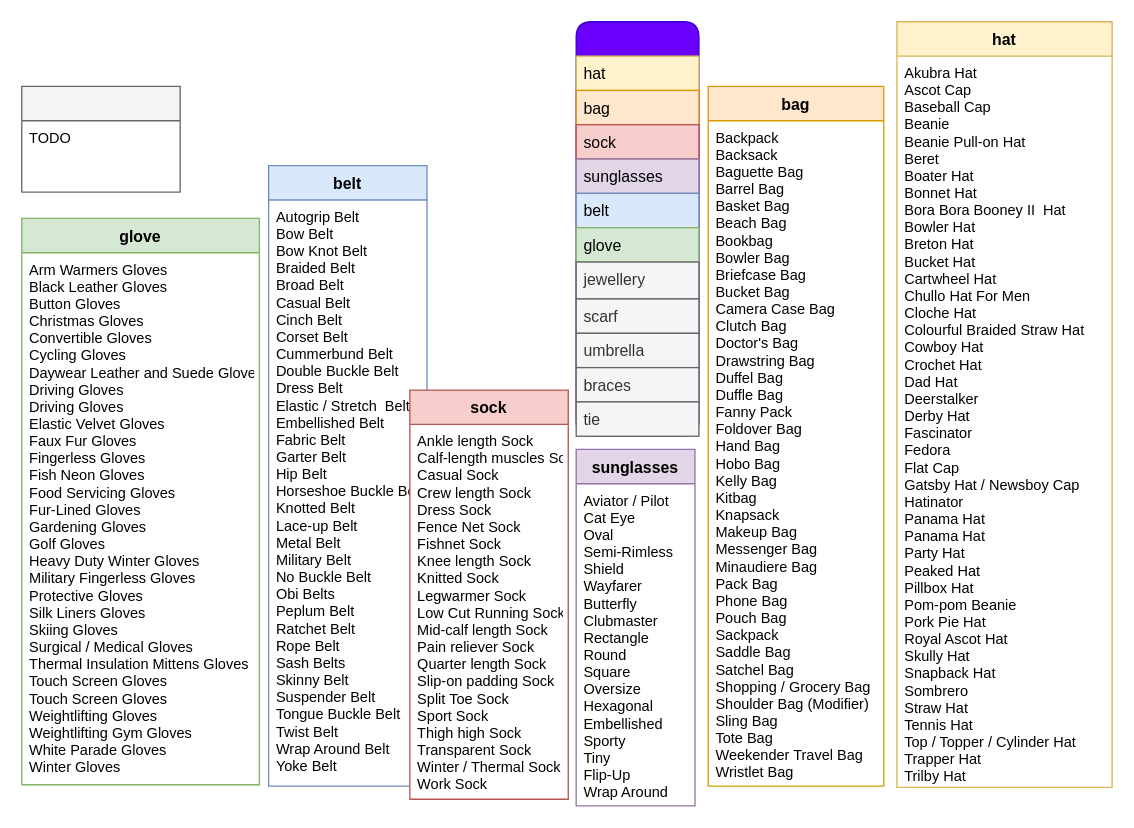
This 1134x828 diagram has some shape labels left out. The box of each missing label's shape, as (x1, y1, x2, y2) in pixels:
accessory: (575, 20, 699, 436)
jewllery: (20, 85, 180, 192)
